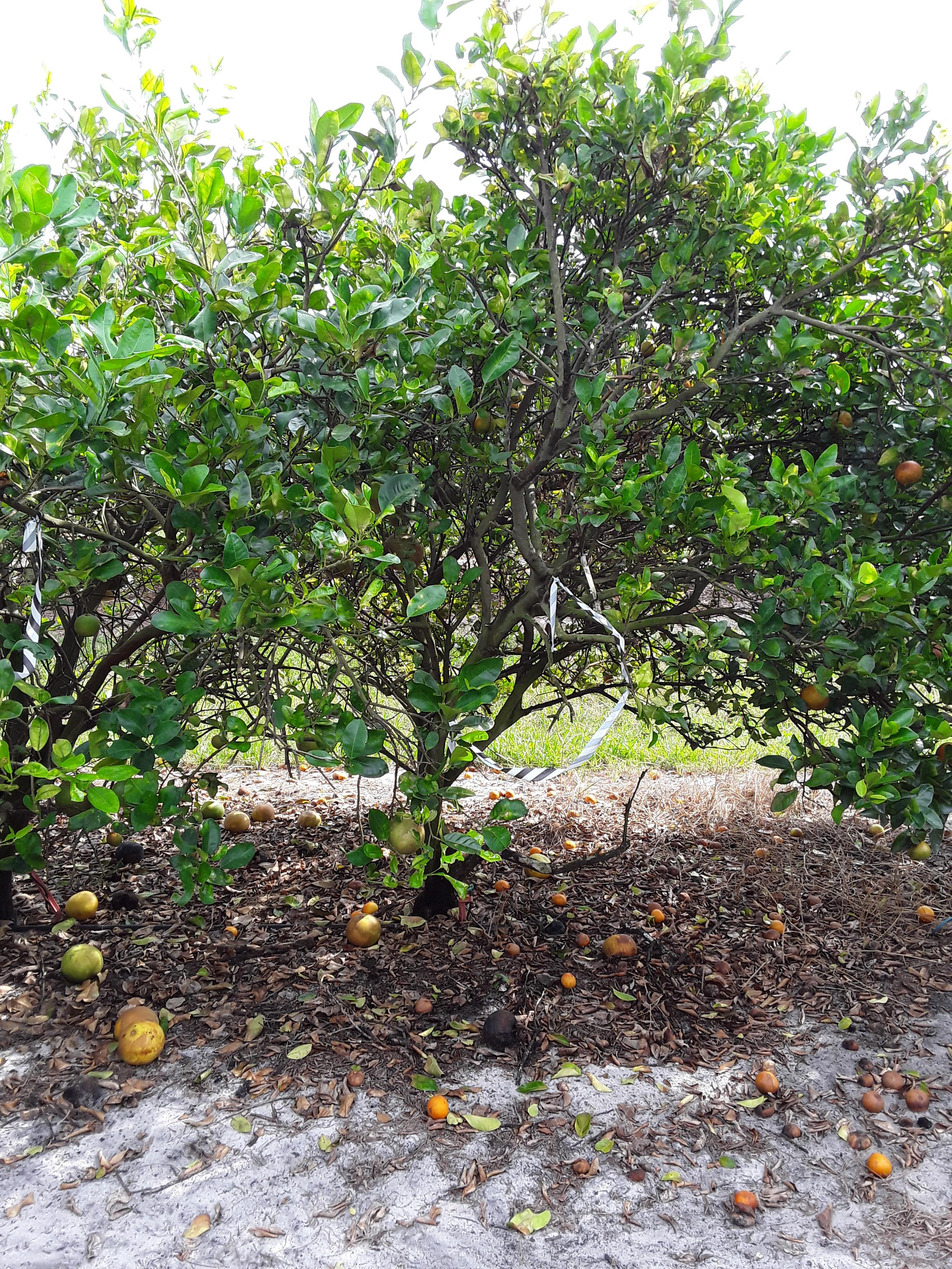fruit_on_ground: (379, 522, 429, 572), (49, 777, 101, 819), (385, 808, 428, 853), (291, 726, 341, 764), (315, 547, 356, 580), (111, 776, 147, 812), (824, 409, 864, 438), (799, 682, 832, 713), (73, 610, 104, 639), (468, 409, 501, 435), (893, 460, 926, 486), (906, 839, 934, 862), (934, 738, 952, 773), (930, 636, 952, 664), (637, 337, 660, 358), (212, 734, 231, 750), (600, 674, 618, 684), (508, 400, 522, 411), (475, 509, 490, 519), (512, 643, 523, 653), (683, 378, 692, 390)
fruit_on_tree: (114, 1019, 175, 1068), (58, 942, 111, 980), (479, 1011, 529, 1050), (112, 1005, 164, 1042), (345, 908, 383, 947), (62, 889, 103, 921), (601, 932, 634, 962), (866, 1152, 898, 1179), (115, 839, 149, 862), (110, 886, 141, 911), (525, 860, 558, 883), (223, 809, 251, 836), (424, 1093, 451, 1121), (756, 1069, 786, 1094), (198, 797, 229, 821), (249, 801, 278, 824), (844, 1129, 874, 1150), (904, 1087, 930, 1110), (860, 1089, 886, 1112), (880, 1070, 908, 1091), (296, 809, 325, 829), (415, 991, 436, 1017), (735, 1190, 761, 1211), (540, 918, 567, 935), (781, 1122, 803, 1142), (854, 1071, 878, 1089), (557, 972, 579, 990), (572, 1155, 591, 1175), (501, 940, 524, 955), (105, 828, 124, 846), (807, 889, 826, 907), (646, 896, 664, 915), (841, 1034, 859, 1053), (574, 932, 594, 949), (346, 1069, 366, 1086), (551, 892, 570, 909), (917, 904, 934, 923), (770, 917, 789, 933), (343, 906, 366, 919), (861, 884, 879, 900), (362, 898, 380, 914), (716, 958, 734, 974), (222, 925, 244, 938), (868, 823, 887, 838), (761, 929, 786, 940), (345, 877, 365, 890), (650, 910, 670, 923), (665, 862, 682, 877), (494, 878, 511, 893), (647, 768, 665, 782), (754, 846, 772, 860), (583, 794, 602, 807), (767, 909, 786, 922), (742, 863, 762, 875), (858, 1056, 874, 1071), (768, 890, 785, 904), (315, 795, 329, 810), (237, 786, 254, 798), (676, 891, 693, 903), (789, 827, 804, 840), (709, 838, 724, 851), (834, 893, 851, 904), (715, 823, 731, 834), (656, 862, 669, 875), (502, 788, 516, 799), (526, 846, 541, 856), (607, 790, 620, 801), (564, 840, 577, 851), (328, 770, 342, 780), (550, 804, 565, 813), (566, 809, 581, 818), (772, 834, 784, 845), (696, 837, 710, 846), (544, 790, 557, 799), (298, 763, 308, 774), (489, 790, 499, 801), (547, 783, 558, 792), (338, 772, 347, 781)
